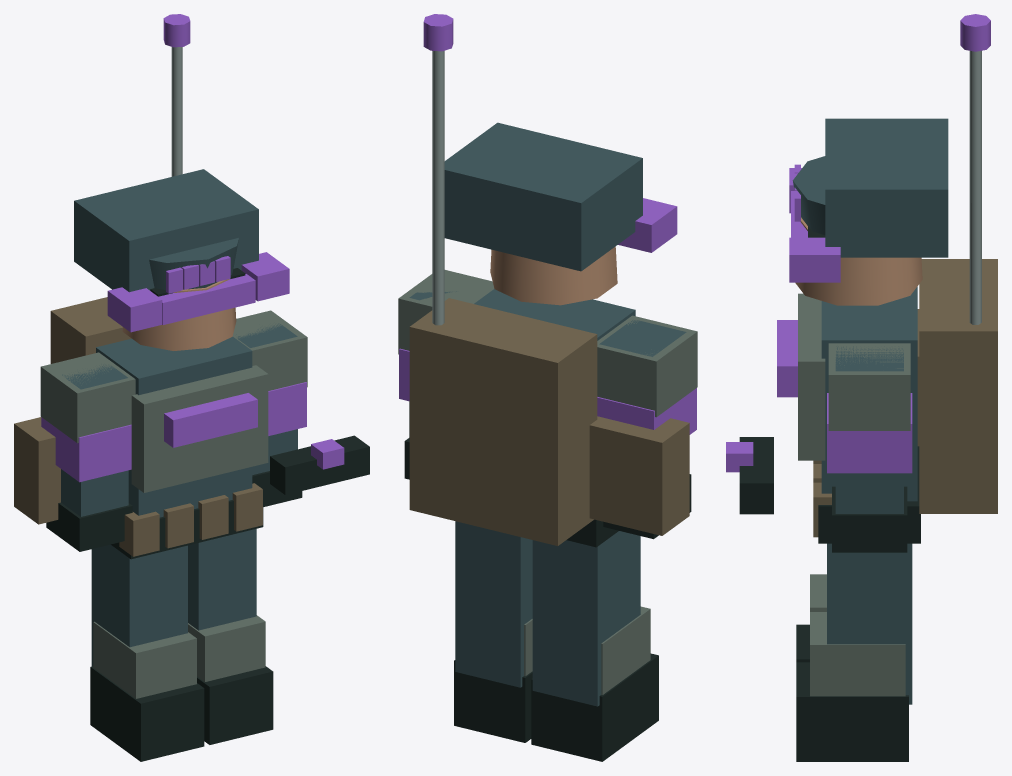
The model's file is recon_l04.glb.
The picture shows the model from 3 angles, left to right: view 1: azimuth 30°, elevation 25°; view 2: azimuth 150°, elevation 25°; view 3: azimuth 270°, elevation 25°; orthographic projection. The views are drawn at different scales.
Parts seen in each view (by area): view 1: hood, trouser (×2), boot (×2), vest, shoulder_plate (×2), knee_plate (×2), body, rank_stripe (×2), sleeve (×2), map_satchel, optic_wing (×2), dzn_chest_flash (+14 smaller); view 2: field_pack, trouser (×2), hood, boot (×2), map_satchel, shoulder_plate (×2), face, signal_mast, body, knee_plate, rank_stripe (×2), optic_wing (+3 smaller); view 3: field_pack, hood, trouser, boot (×2), shoulder_plate, knee_plate (×2), body, face, vest, sleeve, rank_stripe, signal_mast (+9 smaller).
Boxes of the visible parts, box(x1,y1,x2,y2) form: hood: box(74, 169, 258, 292); trouser (×2): box(91, 529, 256, 666); boot (×2): box(90, 666, 273, 761); vest: box(131, 365, 268, 492); shoulder_plate (×2): box(40, 310, 307, 443); knee_plate (×2): box(93, 615, 265, 698); body: box(96, 336, 252, 517); rank_stripe (×2): box(41, 382, 306, 482); sleeve (×2): box(61, 323, 297, 516); map_satchel: box(14, 417, 60, 524); optic_wing (×2): box(107, 252, 289, 332); dzn_chest_flash: box(164, 393, 257, 447); field_pack: box(409, 298, 597, 545); trouser (×2): box(455, 521, 640, 706); hood: box(444, 122, 642, 271); boot (×2): box(454, 653, 658, 761); map_satchel: box(589, 416, 689, 535); shoulder_plate (×2): box(398, 270, 697, 417); face: box(490, 246, 617, 305); signal_mast: box(432, 51, 444, 325); body: box(474, 289, 635, 340); knee_plate: box(601, 606, 650, 694); rank_stripe (×2): box(399, 348, 696, 434); optic_wing: box(618, 198, 677, 252); field_pack: box(919, 259, 997, 513); hood: box(825, 118, 948, 257); trouser: box(827, 543, 912, 704); boot (×2): box(796, 624, 908, 761); shoulder_plate: box(828, 343, 910, 430); knee_plate (×2): box(810, 574, 905, 696); body: box(821, 286, 917, 501); face: box(795, 217, 922, 305); vest: box(798, 293, 825, 460); sleeve: box(835, 346, 903, 513); rank_stripe: box(827, 393, 912, 473); signal_mast: box(969, 50, 981, 324).
Size of the model in its own units: 1.02 by 2.36 by 0.795.
